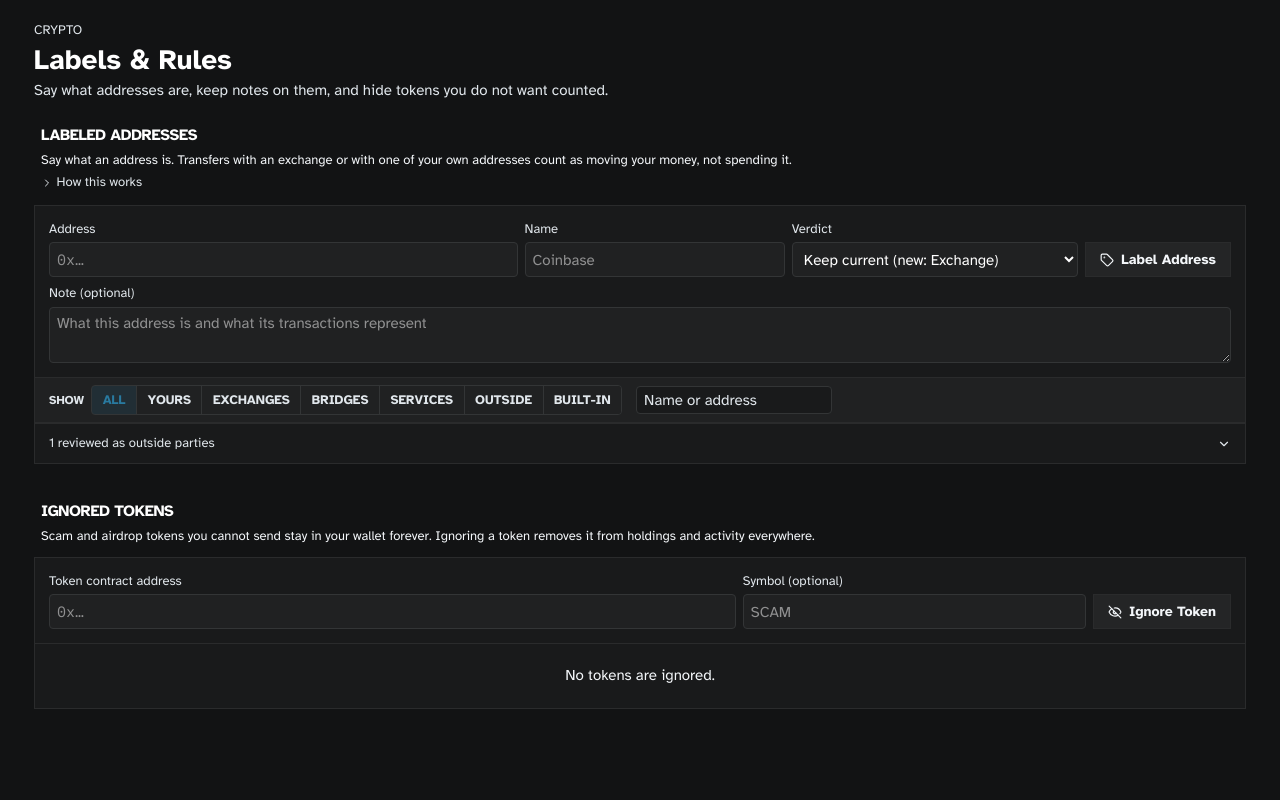
it: Crypto -> Labels tab › label form verdicts › lists seeded Polymarket labels without allowing removal
Expected: the heading "Labeled Addresses" is shown, [41,125,197,145]
Click the button "1 reviewed as outside parties": {"x": 134, "y": 443} [35,423,1245,463]
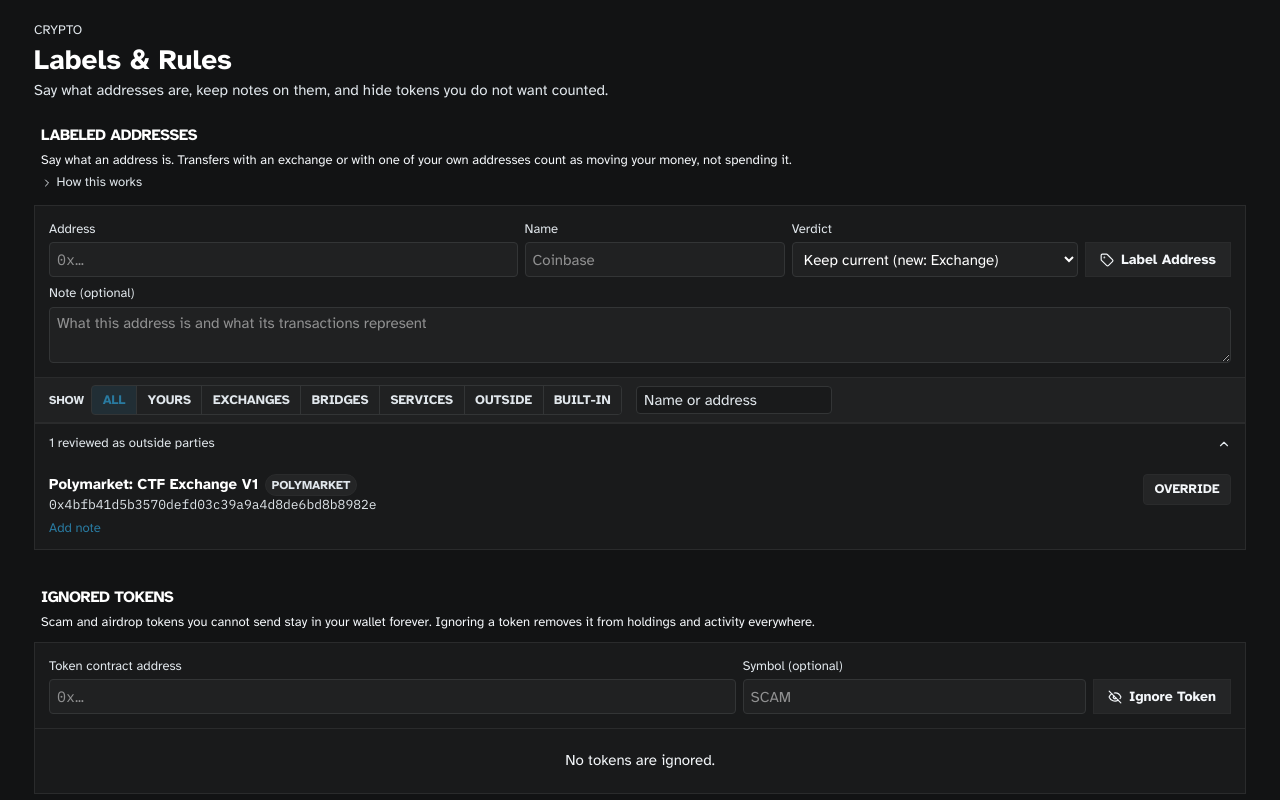
Result: the text "Polymarket: CTF Exchange V1" is shown at [49,475,258,493]
Result: the text "Polymarket" is shown at [265,474,357,496]
